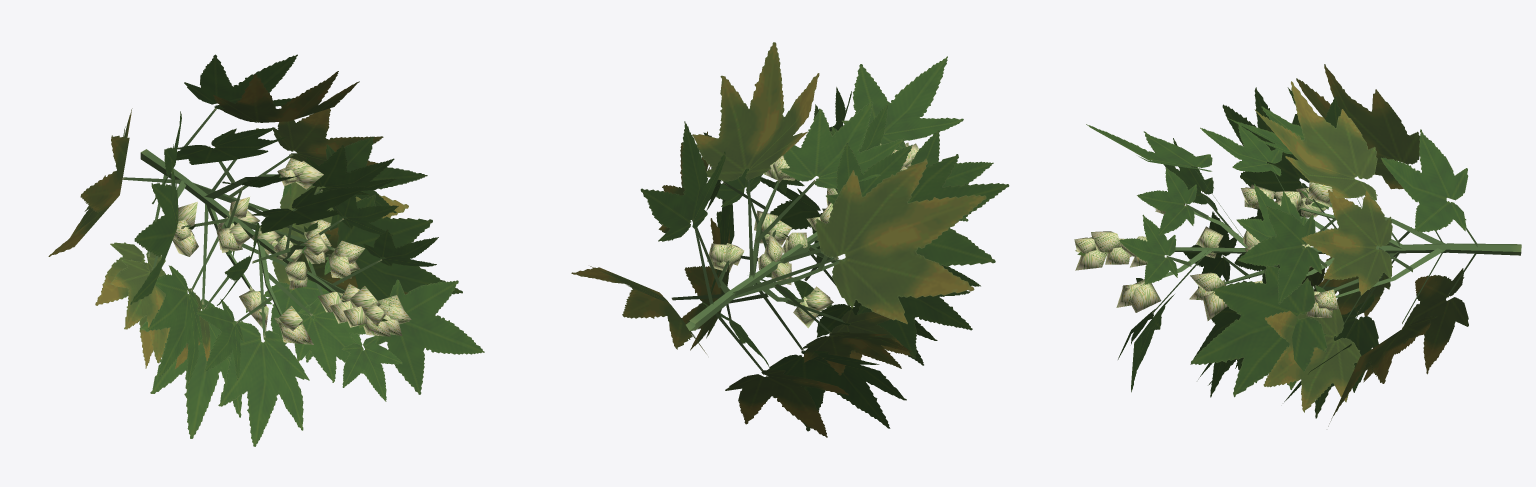
Rendered from p_male_kush_ripe_c0_cards.obj.
The picture shows the model from 3 angles, left to right: view 1: azimuth 30°, elevation 25°; view 2: azimuth 150°, elevation 25°; view 3: azimuth 270°, elevation 25°; orthographic projection. The views are drawn at different scales.
Bounding box in the file's own units: 1.63 × 1.44 × 1.38.
Materials: 1 (1 with a texture image).
